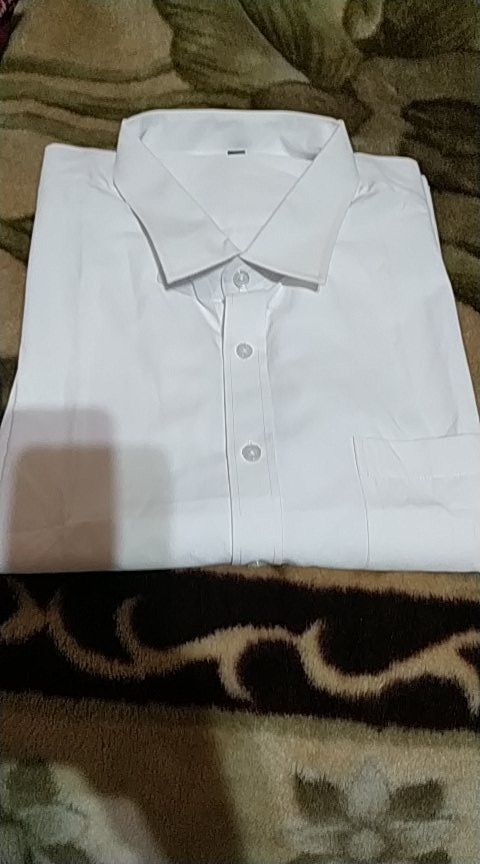shirts: (8, 109, 480, 559)
